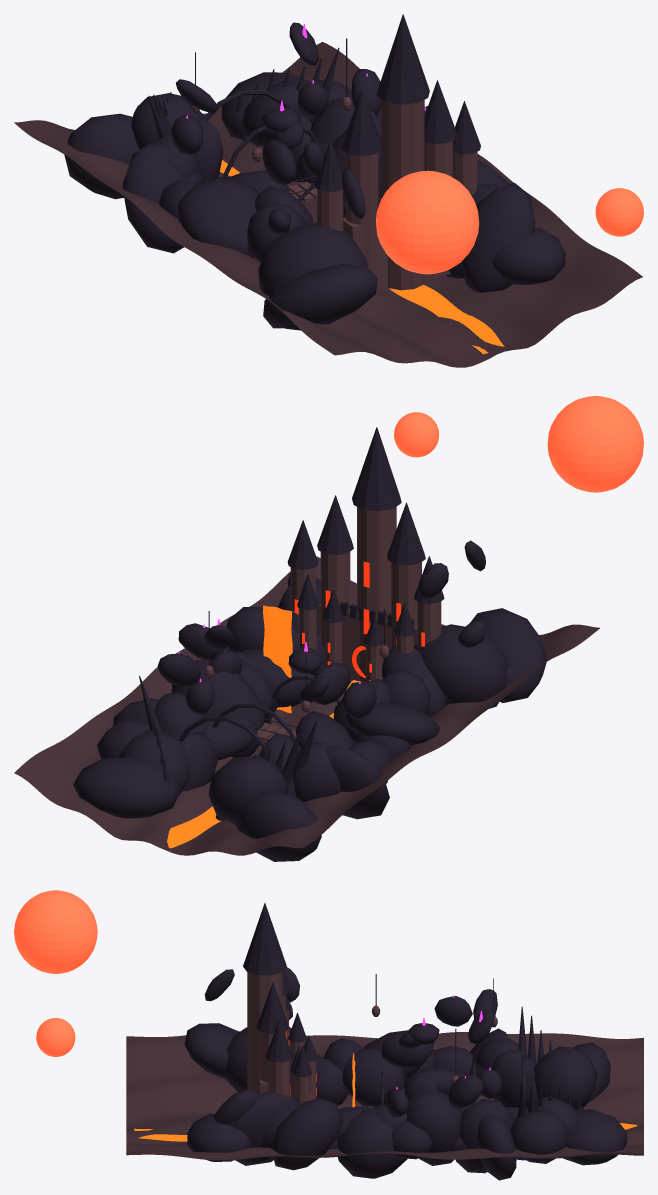
The model's file is InfernalWorldV10.fbx.
3 renders of one model, top to bottom at view 1: azimuth 30°, elevation 25°; view 2: azimuth 150°, elevation 25°; view 3: azimuth 270°, elevation 25°, orthographic. The views are drawn at different scales.
Parts seen in each view (by area): view 1: World_Hell_Obsidian, World_Hell_Basalt, World_Hell_RuinStone, World_Hell_Moon, World_Hell_Lava; view 2: World_Hell_Obsidian, World_Hell_Basalt, World_Hell_RuinStone, World_Hell_Moon, World_Hell_Lava, World_Hell_Ember; view 3: World_Hell_Obsidian, World_Hell_Basalt, World_Hell_Moon, World_Hell_RuinStone, World_Hell_Lava.
Boxes of the visible parts, x1,y1,x2,y2 form: World_Hell_Obsidian: (64, 14, 565, 330); World_Hell_Basalt: (14, 42, 642, 367); World_Hell_RuinStone: (190, 97, 477, 291); World_Hell_Moon: (376, 170, 643, 274); World_Hell_Lava: (220, 160, 504, 354); World_Hell_Obsidian: (73, 427, 546, 861); World_Hell_Basalt: (14, 556, 599, 855); World_Hell_RuinStone: (204, 506, 441, 740); World_Hell_Moon: (394, 396, 643, 492); World_Hell_Lava: (167, 605, 360, 848); World_Hell_Ember: (294, 561, 424, 680); World_Hell_Obsidian: (184, 903, 627, 1180); World_Hell_Basalt: (126, 1031, 643, 1160); World_Hell_Moon: (14, 890, 97, 1056); World_Hell_RuinStone: (247, 972, 497, 1104); World_Hell_Lava: (134, 1053, 637, 1141).
Bounding box in the file's own units: 22.15 × 20.69 × 48.2.
